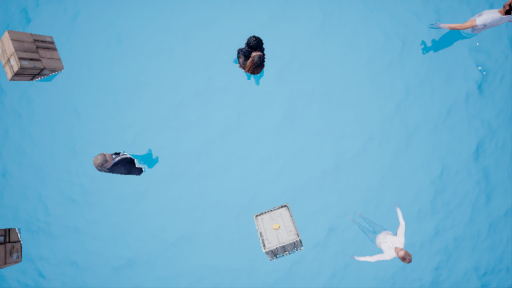person: (348, 201, 417, 274), (421, 4, 512, 58), (92, 146, 178, 181), (230, 37, 271, 90)
